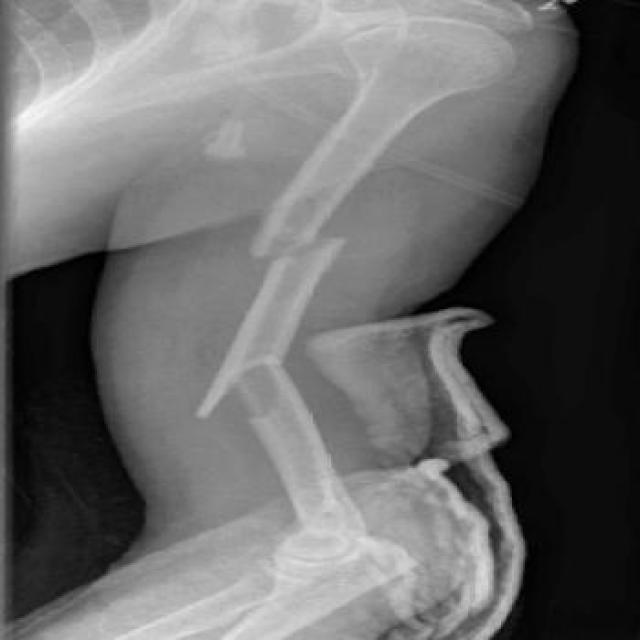Fracture: (158, 350, 303, 425), (213, 218, 383, 267)
